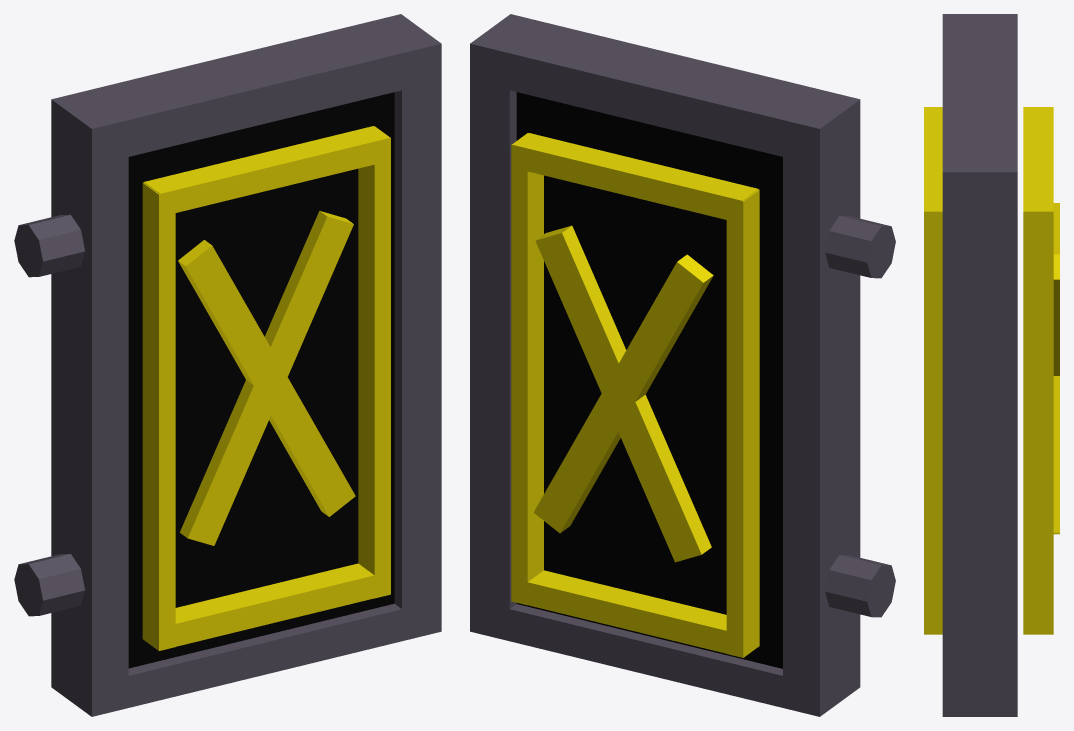
File: Neon_Cross_rectangle.fbx
3 renders of one model, left to right at view 1: azimuth 30°, elevation 25°; view 2: azimuth 150°, elevation 25°; view 3: azimuth 270°, elevation 25°, orthographic. The views are drawn at different scales.
Parts seen in each view (by area): view 1: NeonSign_Rectangle1, Neon_Cross_rectangle; view 2: NeonSign_Rectangle1, Neon_Cross_rectangle; view 3: NeonSign_Rectangle1, Neon_Cross_rectangle.
Part boxes in pixels (left/top/right/bottom): NeonSign_Rectangle1: left=14, top=14, right=441, bottom=716; Neon_Cross_rectangle: left=142, top=126, right=390, bottom=650; NeonSign_Rectangle1: left=470, top=14, right=895, bottom=716; Neon_Cross_rectangle: left=511, top=133, right=759, bottom=657; NeonSign_Rectangle1: left=942, top=14, right=1017, bottom=716; Neon_Cross_rectangle: left=924, top=107, right=1059, bottom=634.
Size of the model in its own units: 1.12 by 1.61 by 0.363.
